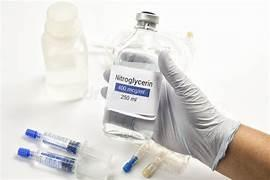Glove: (152, 51, 239, 168)
Iv_Bottle: (103, 12, 162, 141), (42, 1, 87, 100)
Syringe: (17, 148, 110, 179), (25, 129, 111, 161), (17, 148, 75, 172), (25, 129, 80, 153), (122, 142, 148, 172), (142, 152, 165, 177)
